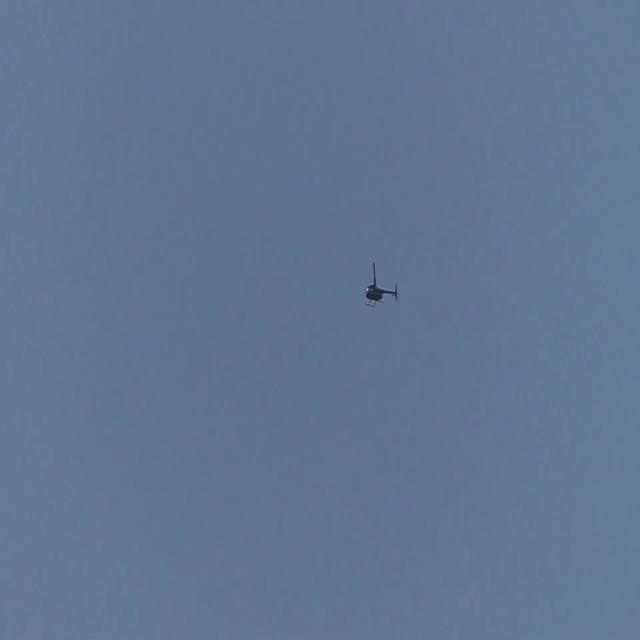CIV_HELO: (365, 272, 399, 309)
